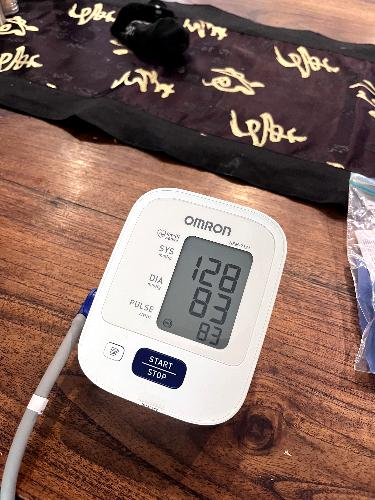bpm: (154, 231, 259, 351)
